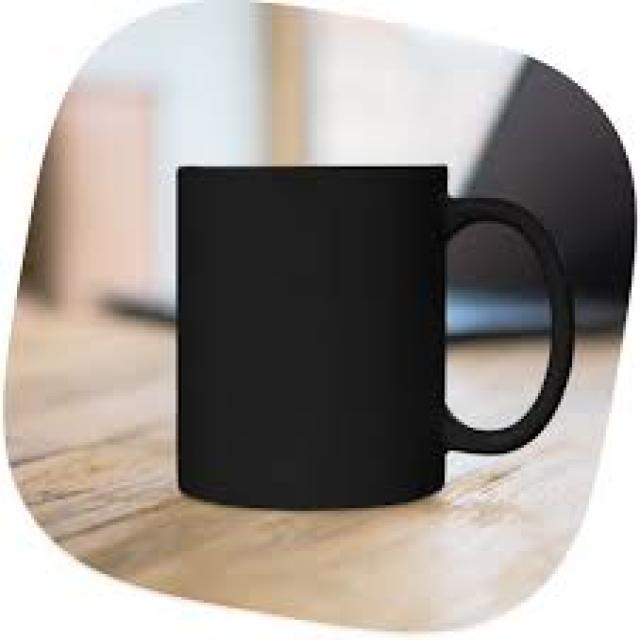taza: (158, 161, 580, 508)
